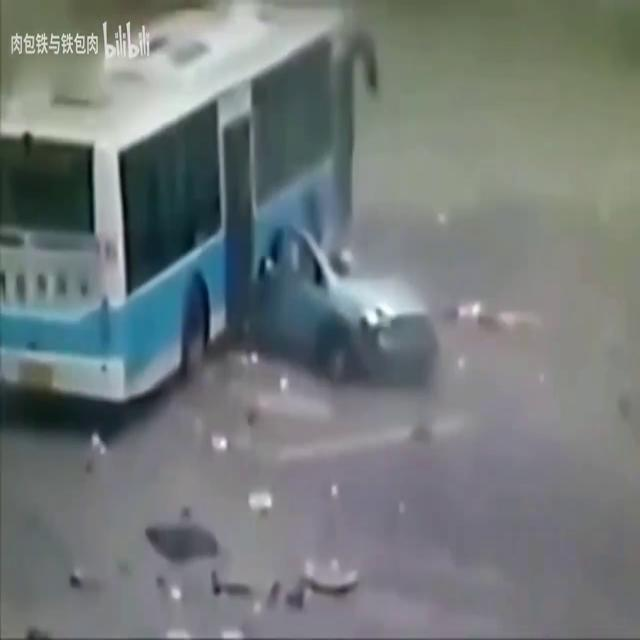accident: (1, 0, 442, 402)
